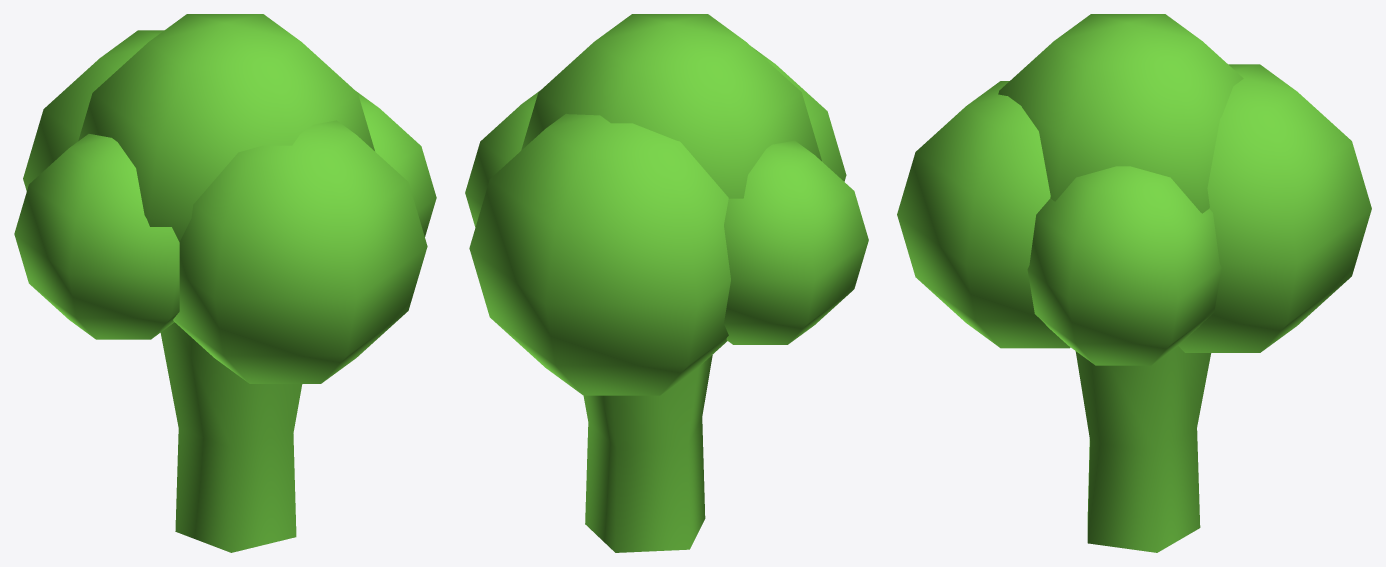
The model's file is SM_Broccoli_001.fbx.
3 renders of one model, left to right at view 1: azimuth 30°, elevation 25°; view 2: azimuth 150°, elevation 25°; view 3: azimuth 270°, elevation 25°, orthographic. The views are drawn at different scales.
Visible parts, largest first — view 1: Brocoli; view 2: Brocoli; view 3: Brocoli.
Part boxes in pixels (<box>): Brocoli: <box>14,14,436,552</box>; Brocoli: <box>465,14,868,552</box>; Brocoli: <box>897,14,1371,552</box>.
Bounding box in the file's own units: 0.0463 × 0.063 × 0.0547.
